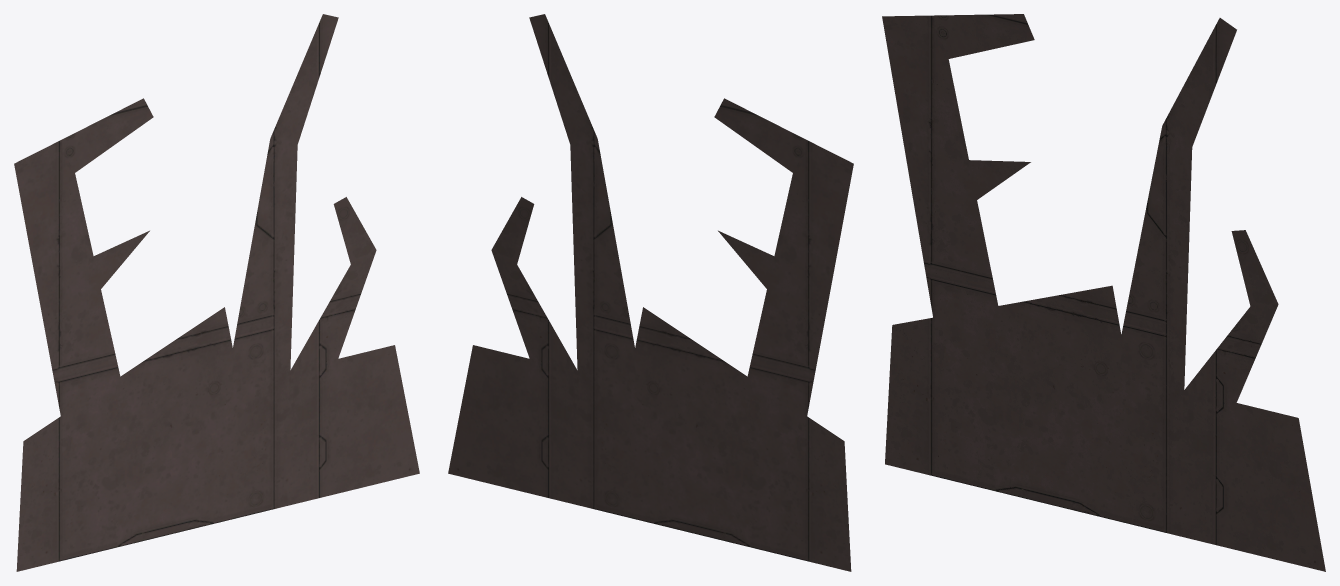
Rendered from Vista19.fbx.
The picture shows the model from 3 angles, left to right: view 1: azimuth 30°, elevation 25°; view 2: azimuth 150°, elevation 25°; view 3: azimuth 330°, elevation 25°; orthographic projection. The views are drawn at different scales.
Visible parts, largest first — view 1: SM_ENV_STRUCT_ScrapYard_Vista_19.mo; view 2: SM_ENV_STRUCT_ScrapYard_Vista_19.mo; view 3: SM_ENV_STRUCT_ScrapYard_Vista_19.mo.
Boxes of the visible parts, x1,y1,x2,y2 form: SM_ENV_STRUCT_ScrapYard_Vista_19.mo: (14, 14, 419, 571); SM_ENV_STRUCT_ScrapYard_Vista_19.mo: (448, 14, 853, 571); SM_ENV_STRUCT_ScrapYard_Vista_19.mo: (882, 14, 1325, 571).
Bounding box in the file's own units: 1292 × 1470 × 0.000239.
Materials: 1 (1 with a texture image).
